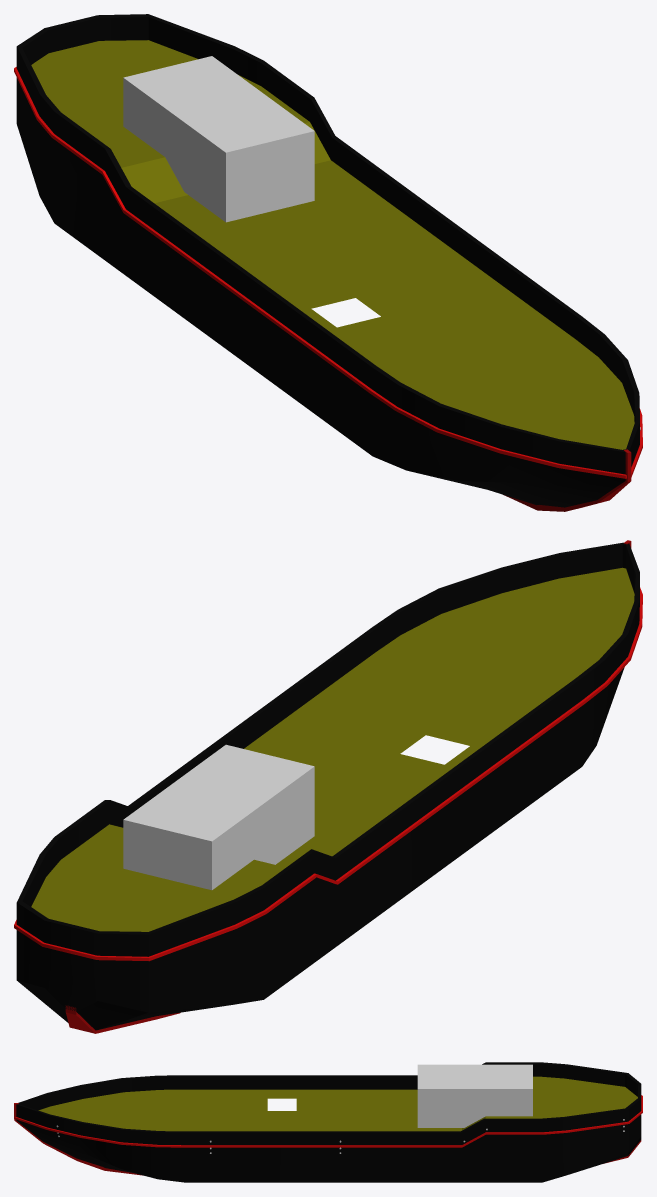
File: hull_lancer.glb
3 renders of one model, top to bottom at view 1: azimuth 30°, elevation 25°; view 2: azimuth 150°, elevation 25°; view 3: azimuth 270°, elevation 25°, orthographic. The views are drawn at different scales.
Visible parts, largest first — view 1: Deck, Mainhull.002, Mainhull, Cockpit, Mainhull.001, Keel; view 2: Deck, Mainhull, Mainhull.002, Cockpit, Mainhull.001, Keel; view 3: Mainhull, Deck, Mainhull.002, Cockpit, Mainhull.001, Keel.
Boxes of the visible parts, x1,y1,x2,y2 form: Deck: (31, 40, 634, 449); Mainhull.002: (16, 14, 639, 474); Mainhull: (16, 77, 625, 507); Cockpit: (123, 56, 314, 222); Mainhull.001: (14, 67, 642, 478); Keel: (503, 449, 631, 511); Deck: (31, 567, 634, 931); Mainhull: (16, 667, 624, 1030); Mainhull.002: (16, 542, 639, 956); Cockpit: (123, 744, 314, 890); Mainhull.001: (14, 587, 642, 961); Keel: (65, 540, 631, 1033); Mainhull: (16, 1114, 641, 1182); Deck: (38, 1076, 637, 1131); Mainhull.002: (16, 1062, 641, 1145); Cockpit: (417, 1064, 532, 1127); Mainhull.001: (15, 1095, 642, 1147); Keel: (14, 1103, 641, 1175).
Bounding box in the file's own units: 9.65 × 7.37 × 43.64.
